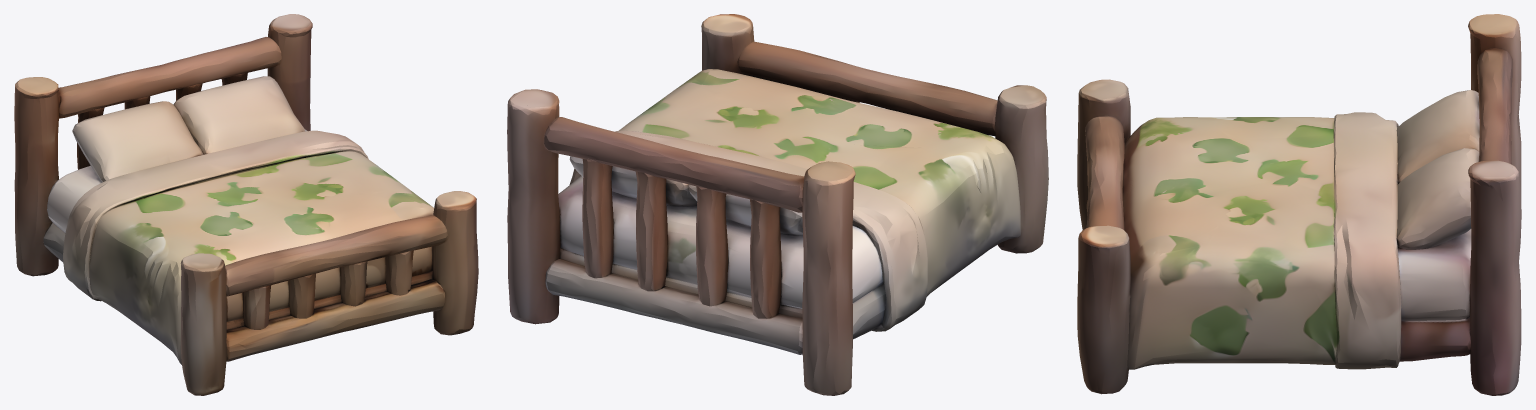
The model's file is PersonBed.glb.
3 renders of one model, left to right at view 1: azimuth 30°, elevation 25°; view 2: azimuth 150°, elevation 25°; view 3: azimuth 270°, elevation 25°, orthographic. The views are drawn at different scales.
Parts seen in each view (by area): view 1: model; view 2: model; view 3: model.
Part boxes in pixels (<box>): model: <box>14,14,478,395</box>; model: <box>507,14,1048,395</box>; model: <box>1077,14,1521,395</box>.
Size of the model in its own units: 1.65 by 0.9979 by 1.84.
1 material, 1 textured.
